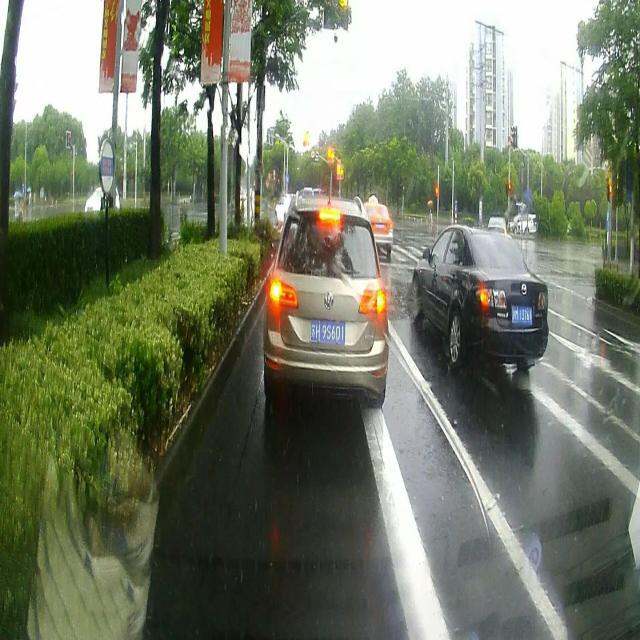car: (254, 192, 391, 408), (409, 228, 554, 370), (363, 186, 401, 255)
